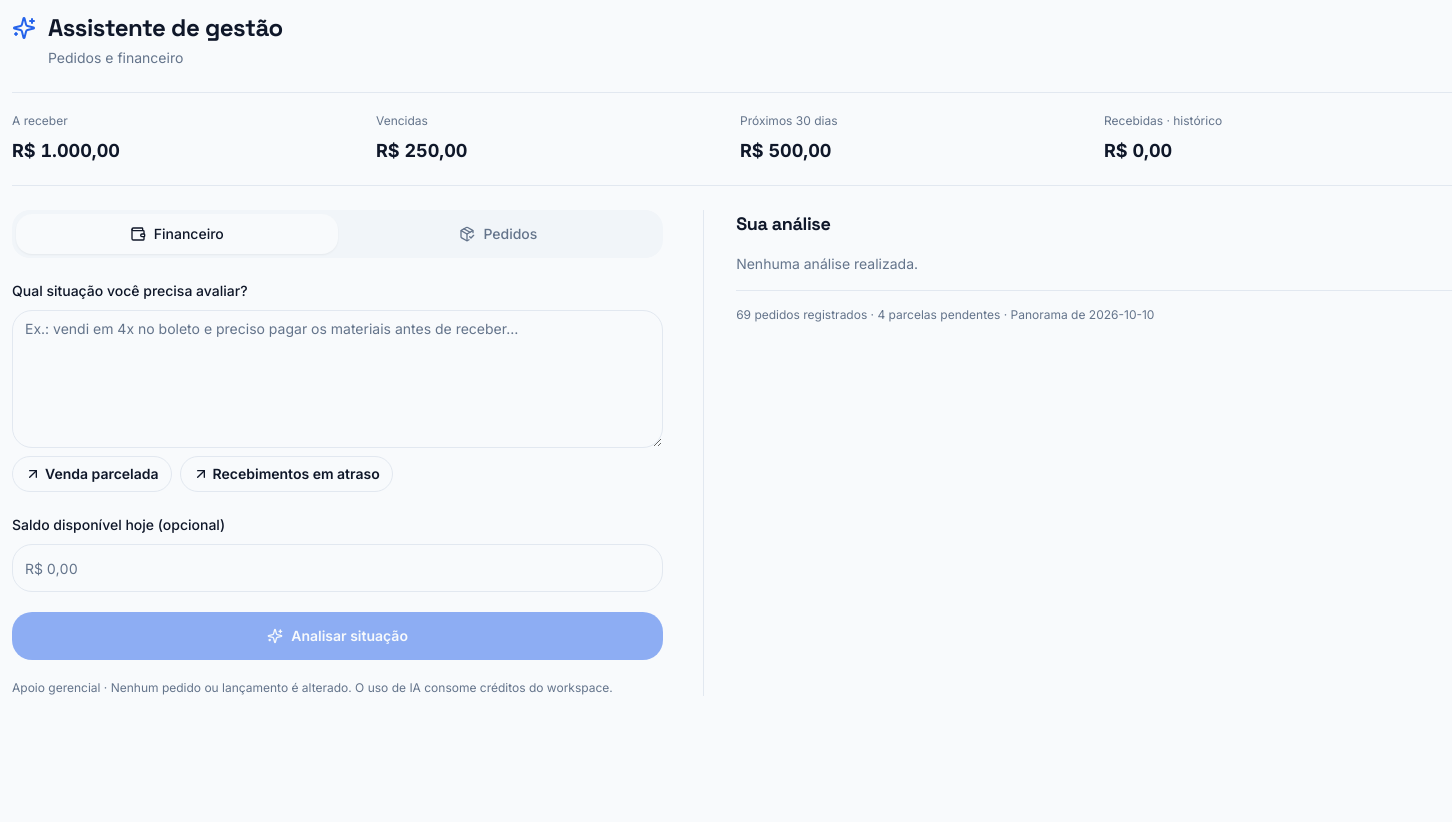
Assistente de pedidos e financeiro › carrega o panorama sem chamar a IA e permite preencher exemplo
Expected: the element named "Panorama de parcelas provisionadas" is shown, [12, 92, 1451, 186]
Expected: the button "Analisar situação" is disabled, [12, 612, 663, 660]
Click the button "Venda parcelada" at x=92, y=474, box [12, 456, 172, 492]
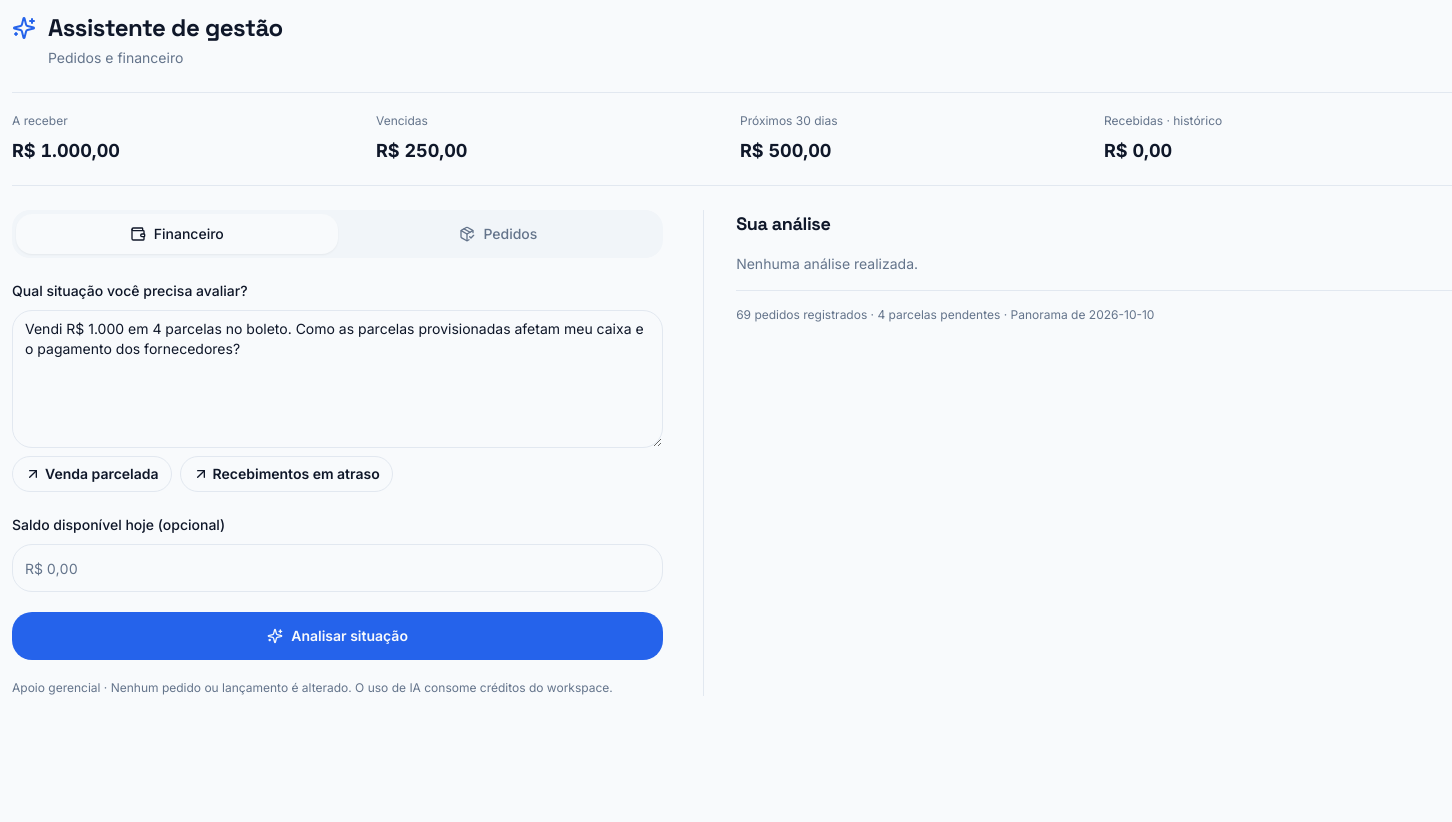
Now the button "Analisar situação" is enabled, box [12, 612, 663, 660]
